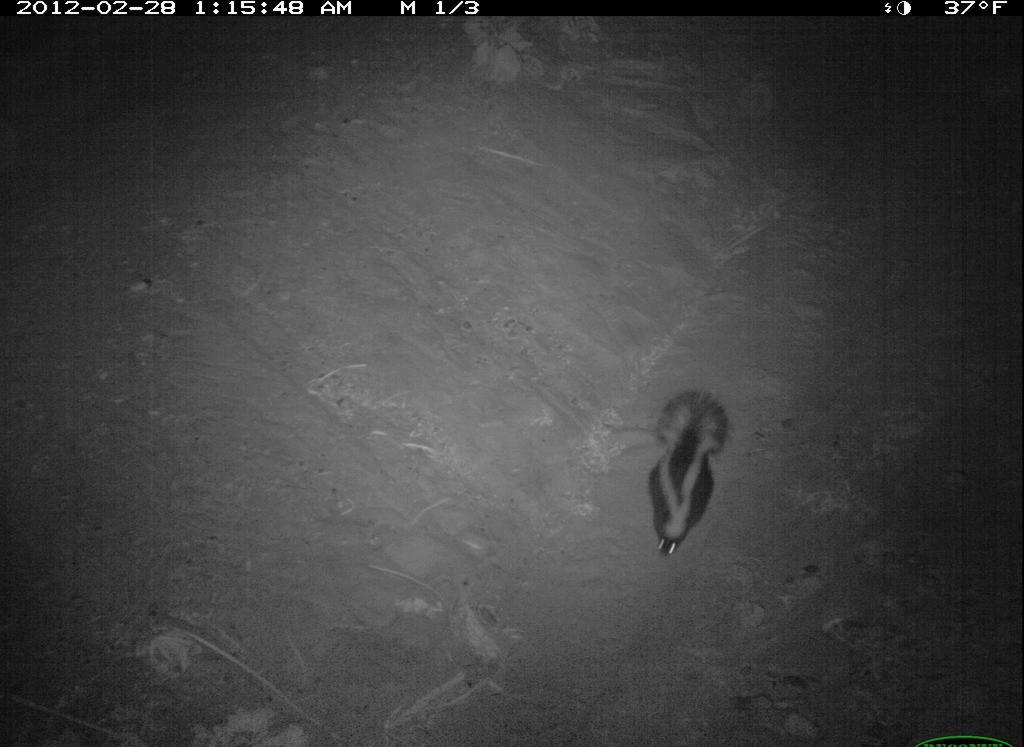skunk: (628, 373, 747, 587)
